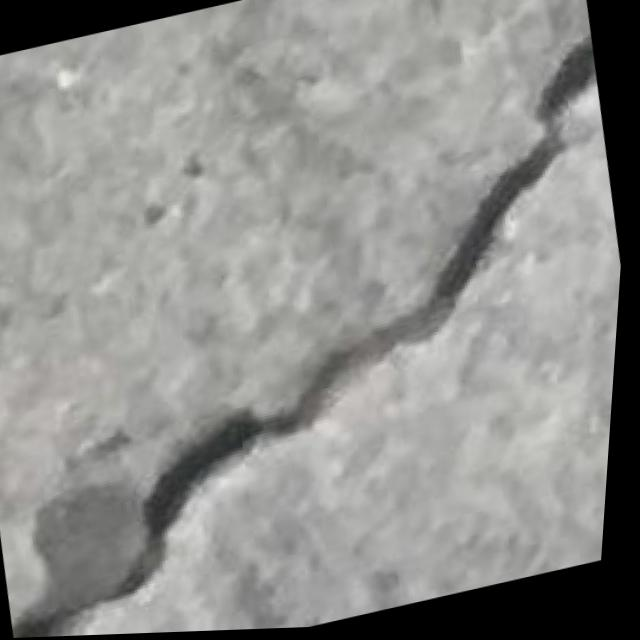Crack: (0, 8, 639, 640)
